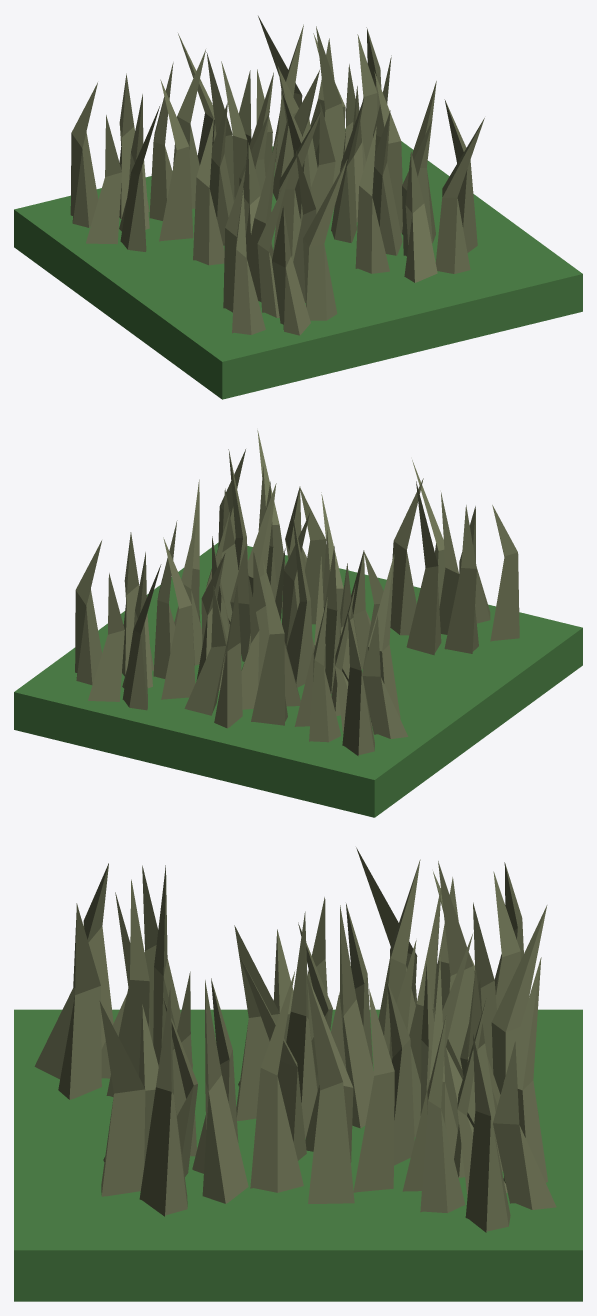
File: Grass01.fbx
3 views of the same model, one above another, from view 1: azimuth 30°, elevation 25°; view 2: azimuth 150°, elevation 25°; view 3: azimuth 270°, elevation 25° (orthographic). The views are drawn at different scales.
Visible parts, largest first — view 1: Cube.001, Voxel, Grass.006, Grass.005, Grass.004, Grass.003, Grass.002, Grass.001, Grass; view 2: Cube.001, Voxel, Grass, Grass.006, Grass.001, Grass.005, Grass.003, Grass.002, Grass.004; view 3: Cube.001, Voxel, Grass.002, Grass.004, Grass, Grass.006, Grass.003, Grass.001, Grass.005.
Boxes of the visible parts, left/top/right/bottom form: Cube.001: left=14, top=128, right=582, bottom=361; Voxel: left=14, top=210, right=582, bottom=399; Grass.006: left=223, top=134, right=347, bottom=335; Grass.005: left=70, top=62, right=193, bottom=251; Grass.004: left=355, top=81, right=484, bottom=282; Grass.003: left=193, top=72, right=321, bottom=265; Grass.002: left=293, top=55, right=402, bottom=242; Grass.001: left=173, top=33, right=298, bottom=208; Grass: left=258, top=16, right=381, bottom=184; Cube.001: left=14, top=542, right=582, bottom=779; Voxel: left=14, top=628, right=582, bottom=817; Grass: left=75, top=520, right=195, bottom=710; Grass.006: left=390, top=460, right=519, bottom=655; Grass.001: left=184, top=548, right=300, bottom=728; Grass.005: left=294, top=554, right=408, bottom=756; Grass.003: left=282, top=492, right=383, bottom=694; Grass.002: left=174, top=479, right=276, bottom=665; Grass.004: left=218, top=430, right=325, bottom=624; Cube.001: left=14, top=1009, right=582, bottom=1250; Voxel: left=14, top=1250, right=582, bottom=1301; Grass.002: left=239, top=955, right=414, bottom=1203; Grass.004: left=99, top=971, right=248, bottom=1216; Grass: left=402, top=957, right=556, bottom=1232; Grass.006: left=34, top=863, right=192, bottom=1099; Grass.003: left=234, top=897, right=374, bottom=1138; Grass.001: left=389, top=885, right=547, bottom=1158; Grass.005: left=356, top=847, right=523, bottom=1069.
Size of the model in its own units: 200 by 106 by 200.
